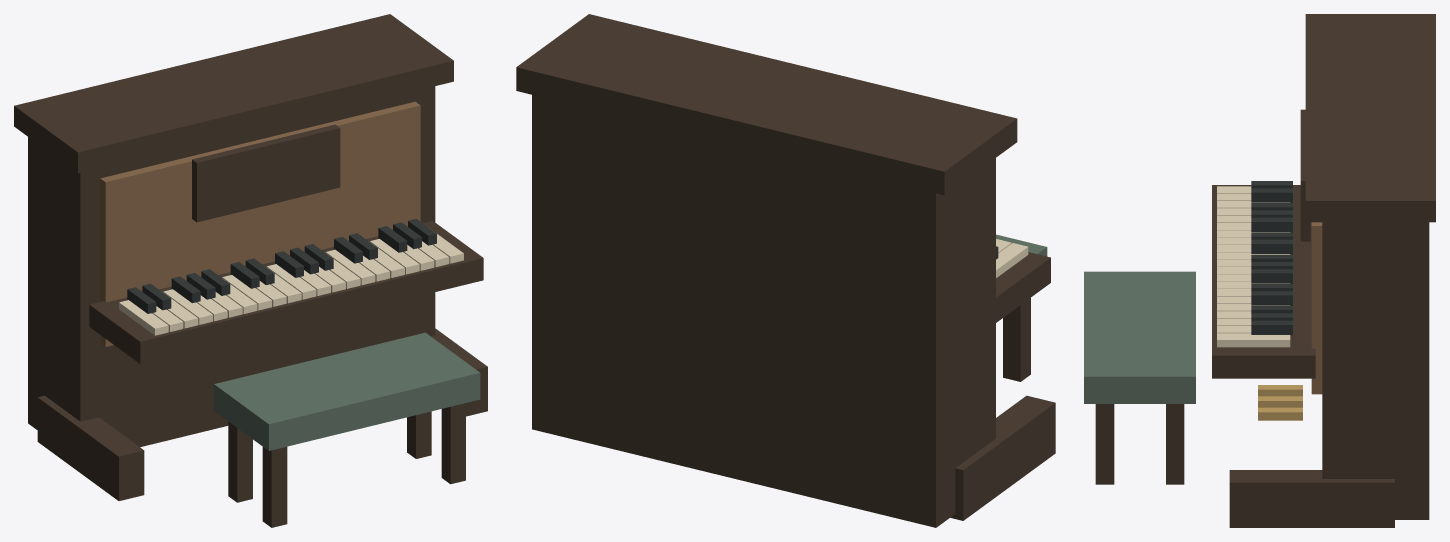
Rendered from 04_Upright_Piano.fbx.
3 renders of one model, left to right at view 1: azimuth 30°, elevation 25°; view 2: azimuth 150°, elevation 25°; view 3: azimuth 270°, elevation 25°, orthographic. The views are drawn at different scales.
Visible parts, largest first — view 1: Structure.002; view 2: Structure.002; view 3: Structure.002.
Boxes of the visible parts, x1,y1,x2,y2 form: Structure.002: [14, 14, 487, 527]; Structure.002: [516, 14, 1055, 527]; Structure.002: [1084, 14, 1435, 527].
Bounding box in the file's own units: 265 × 217 × 211.
